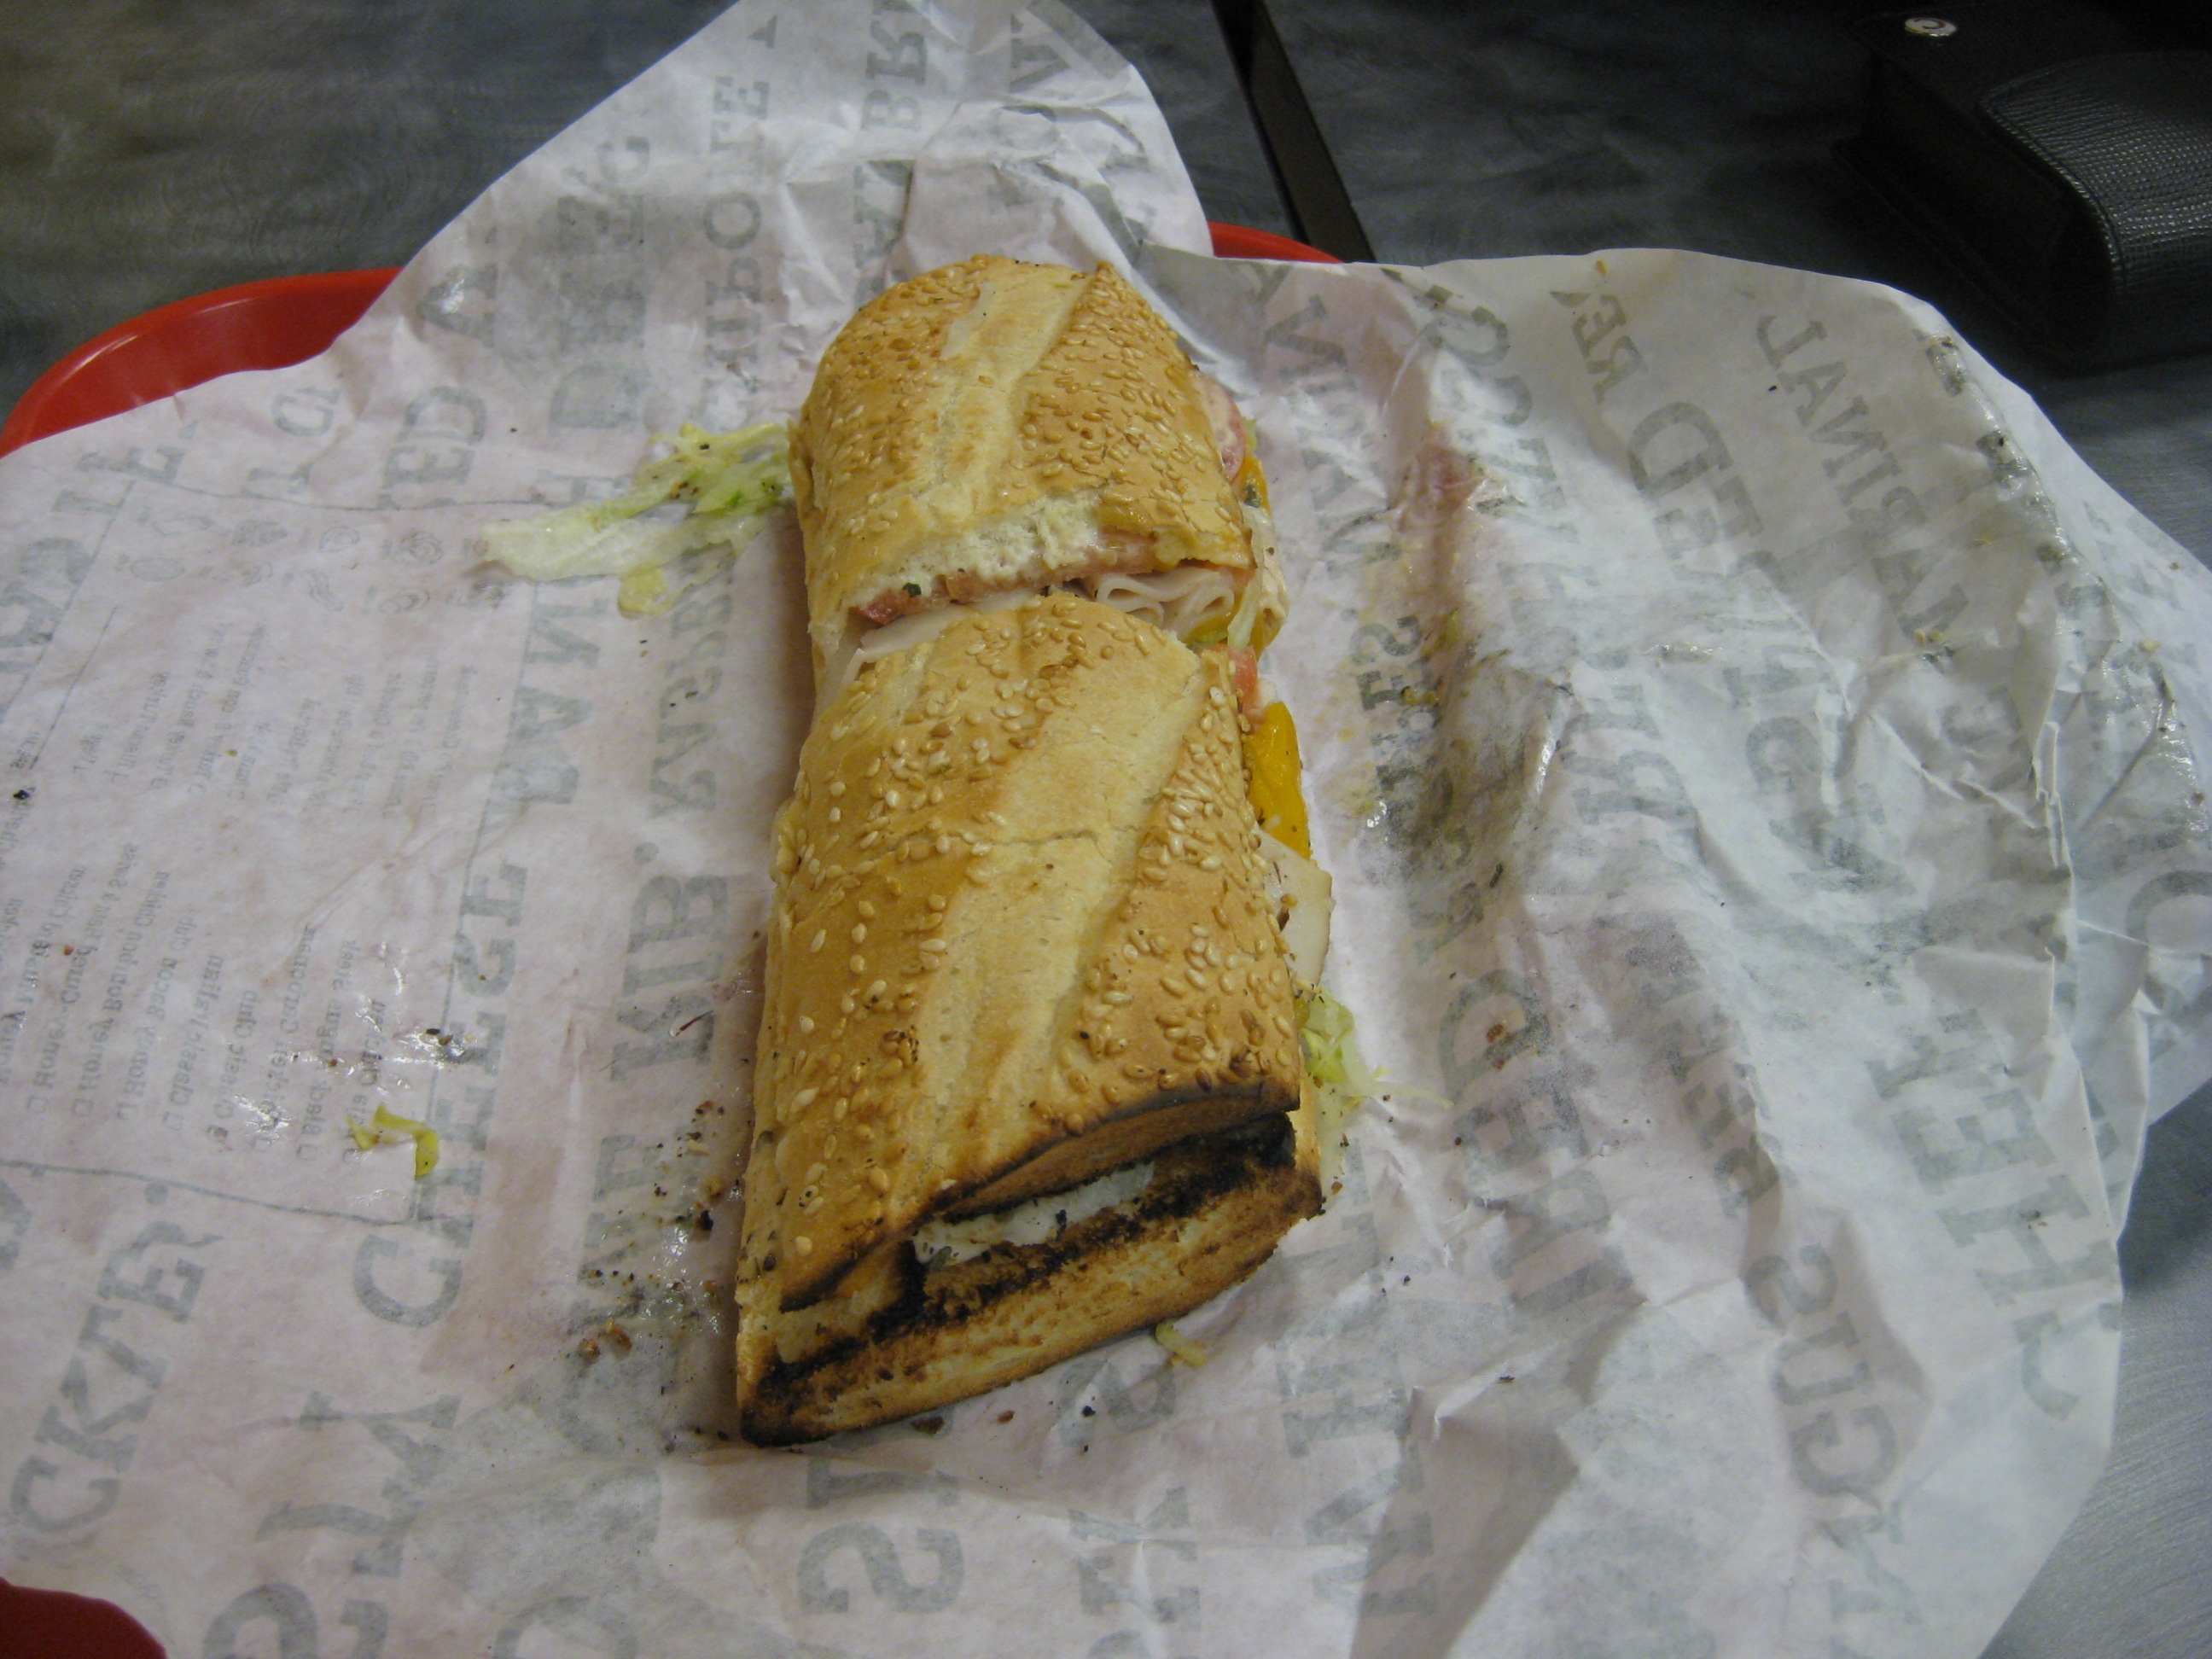sub: (712, 204, 1371, 1467)
